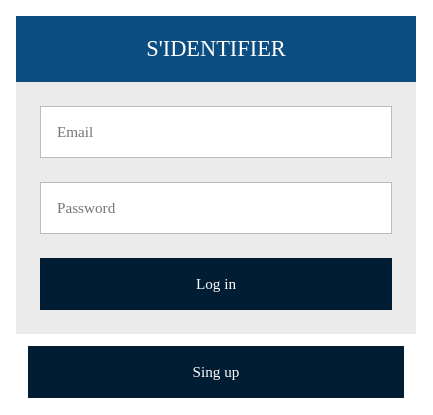
Test case: Page de connexion › Saisie utilisateur › peut effacer et retaper dans les champs
The image size is (433, 415).
Type "erreur@test.com" into the field with placeholder "Email" at (216, 132), box 40,106 -> 392,158
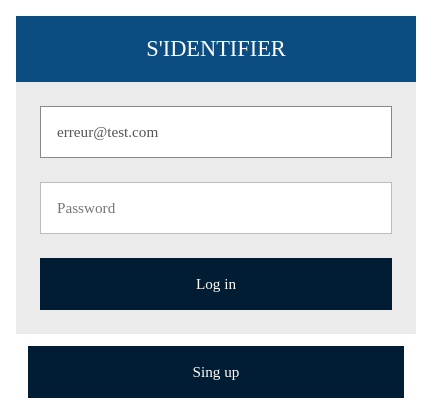
Replace the text in the field with "alice@example.com" at (216, 132), box 40,106 -> 392,158
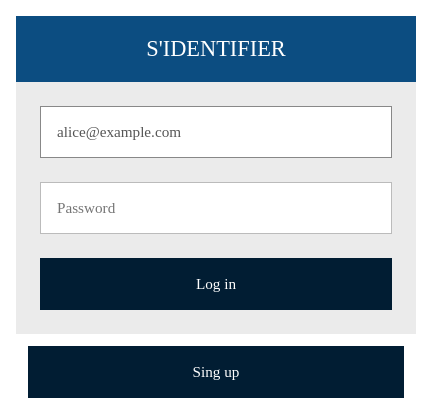
Now the field holds "alice@example.com", box 40,106 -> 392,158
